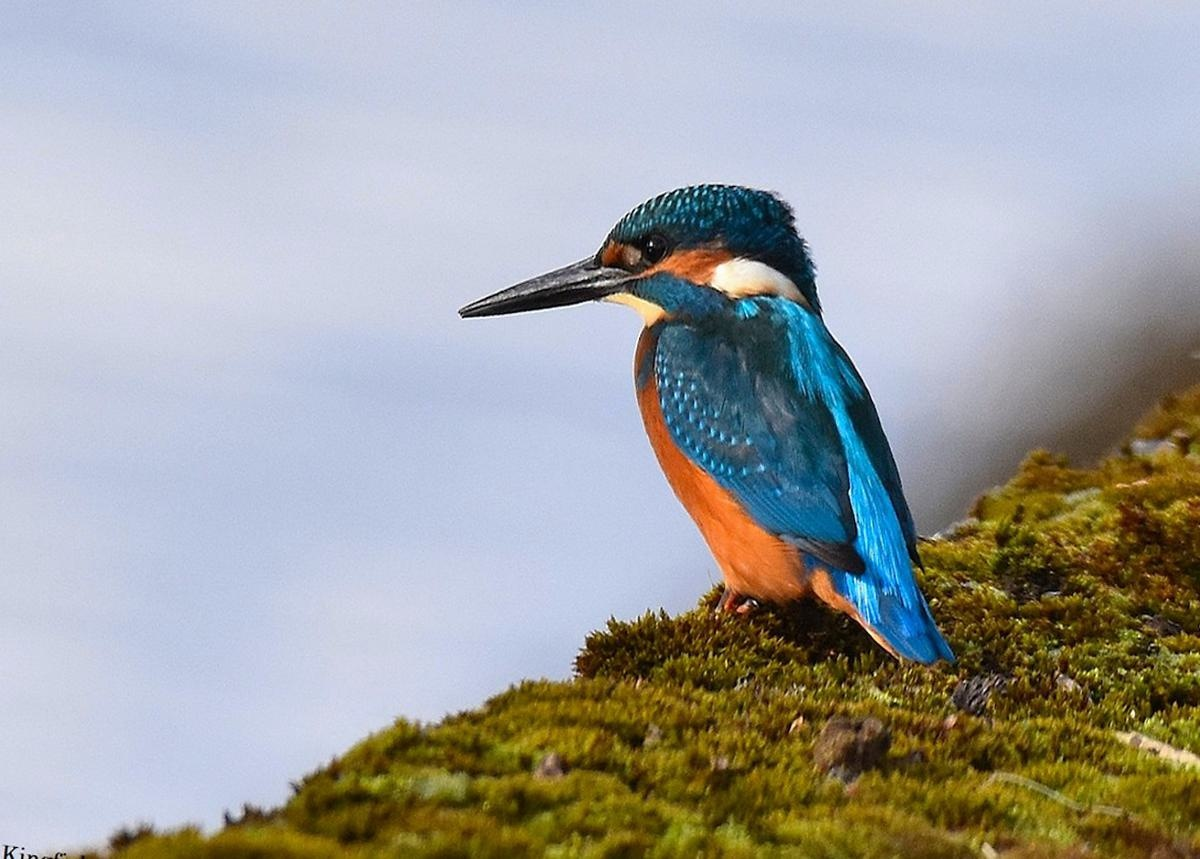kingfisher: (456, 186, 953, 648)
